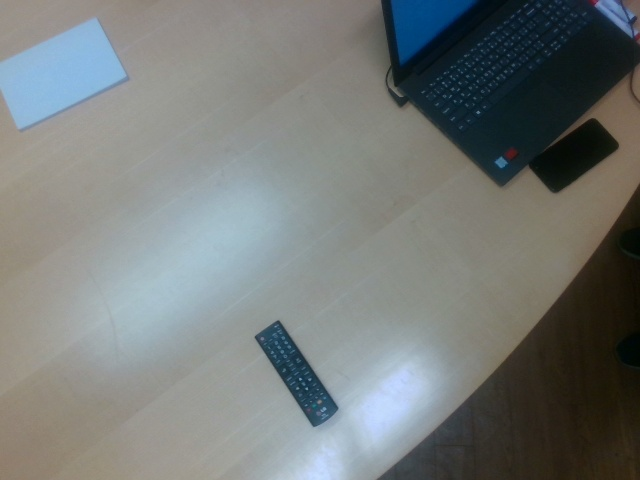remote: (255, 335, 343, 426)
